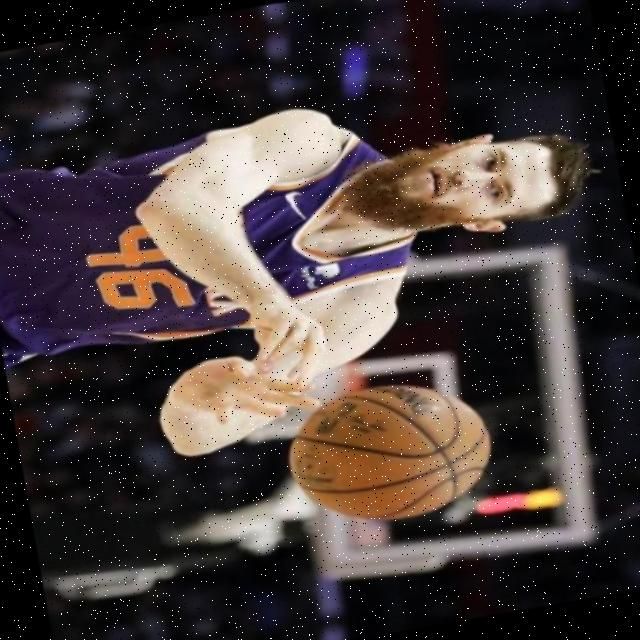ball: (274, 366, 503, 542)
